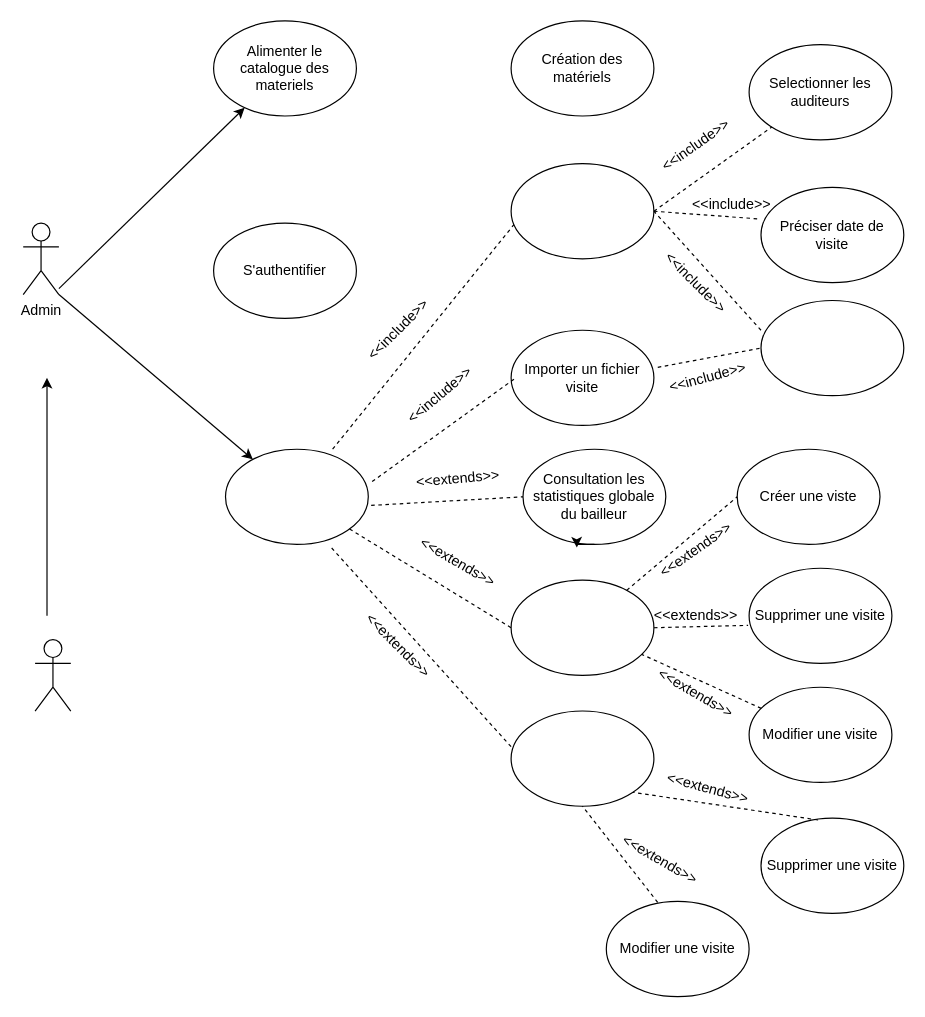
This 925x1017 diagram has some shape labels left out. The shapes that lost their labels are listed below. From the top down, each one's centre as x and y in pixels, then its label:
At (x=582, y=210): "Exporter un fichier visite".
At (x=832, y=347): "Sélectionner les sites concernés".
At (x=296, y=496): "Consulter un bailleur".
At (x=582, y=627): "Consulter une visite".
At (x=52, y=674): "Auditeur".
At (x=582, y=758): "Consulter matériel".
